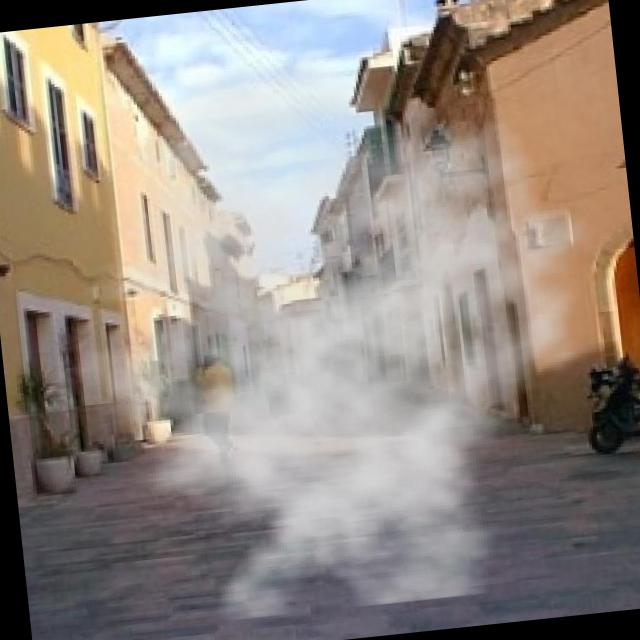Smoke: (11, 26, 629, 637)
